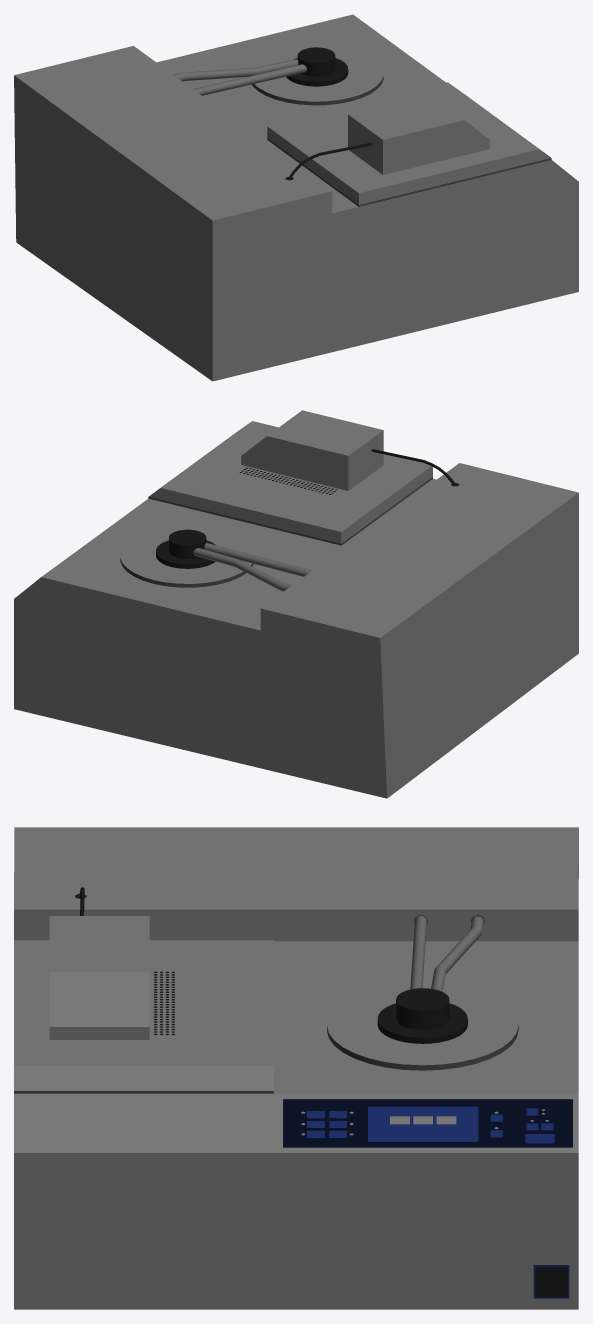
Rendered from IdkWhatThisIsCalled.fbx.
3 views of the same model, one above another, from view 1: azimuth 30°, elevation 25°; view 2: azimuth 150°, elevation 25°; view 3: azimuth 270°, elevation 25° (orthographic). The views are drawn at different scales.
Visible parts, largest first — view 1: Idk What This Is Called; view 2: Idk What This Is Called; view 3: Idk What This Is Called, HolesForDetail.
Boxes of the visible parts, <box> form: Idk What This Is Called: <box>14,14,578,381</box>; Idk What This Is Called: <box>14,410,578,798</box>; Idk What This Is Called: <box>14,827,578,1309</box>; HolesForDetail: <box>154,971,174,1035</box>.
Bounding box in the file's own units: 149 × 73.37 × 139.
